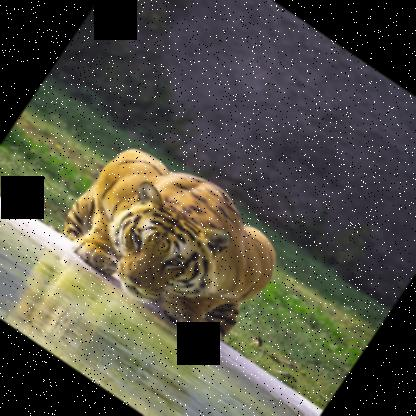Panthera tigris: (46, 124, 298, 358)
